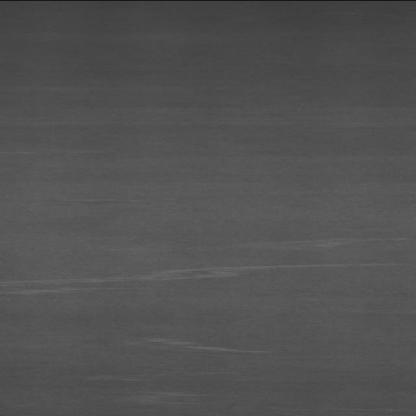silk_spot: (112, 250, 301, 288), (120, 325, 256, 363), (12, 272, 102, 305), (90, 378, 196, 404)
